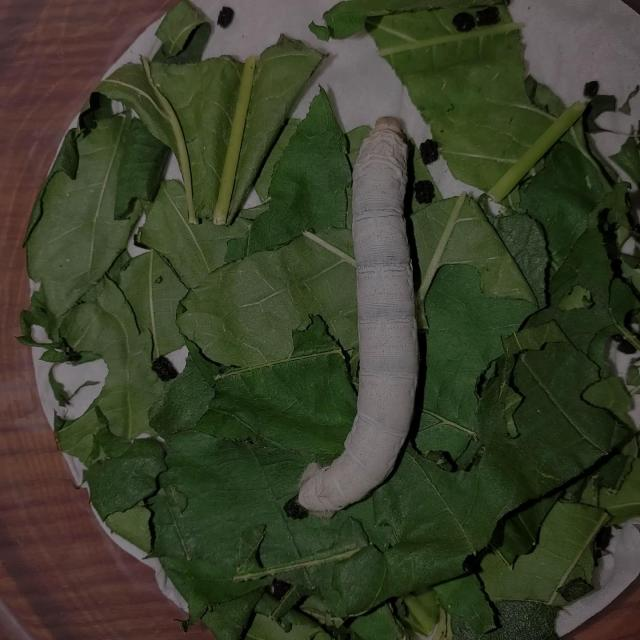Healthy: (286, 107, 446, 526)
